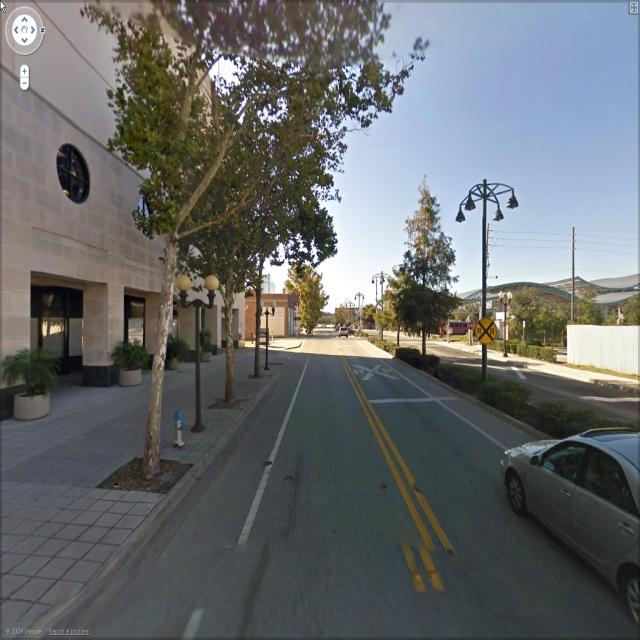b_1: (243, 285, 307, 348)
b_2: (0, 1, 248, 413)
